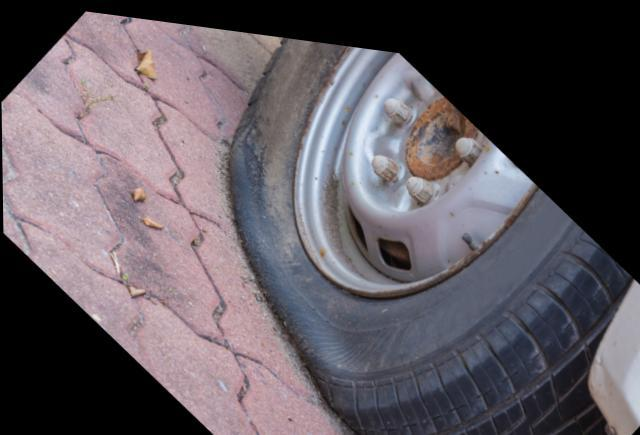tire flat: (223, 30, 633, 435)
